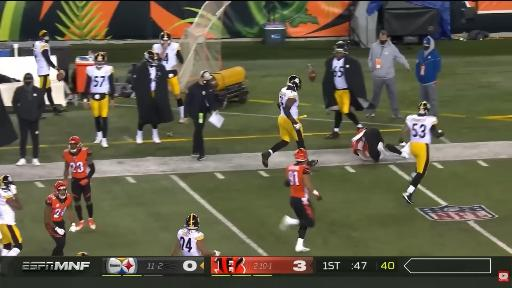Helmet: (54, 181, 67, 199), (287, 75, 301, 90), (185, 214, 199, 229), (144, 51, 158, 65), (294, 148, 308, 162), (69, 136, 81, 152), (94, 52, 106, 67), (0, 175, 14, 187), (334, 41, 347, 53), (418, 102, 430, 114), (160, 32, 171, 43), (39, 31, 49, 42), (357, 128, 366, 134)
Jersey: (86, 66, 113, 100), (406, 115, 437, 144), (63, 147, 91, 178), (286, 164, 310, 198), (152, 43, 180, 70), (178, 228, 204, 255), (46, 194, 72, 221), (279, 86, 298, 119), (33, 41, 50, 75), (0, 187, 15, 225), (332, 58, 347, 89), (351, 130, 367, 154), (149, 66, 157, 91)
Player: (280, 149, 322, 251), (402, 102, 444, 203), (262, 76, 305, 167), (63, 136, 95, 230), (152, 32, 184, 123), (84, 53, 114, 147), (33, 31, 65, 114), (44, 181, 72, 255), (172, 214, 220, 256), (351, 128, 408, 162), (0, 175, 22, 255), (77, 252, 88, 256)
